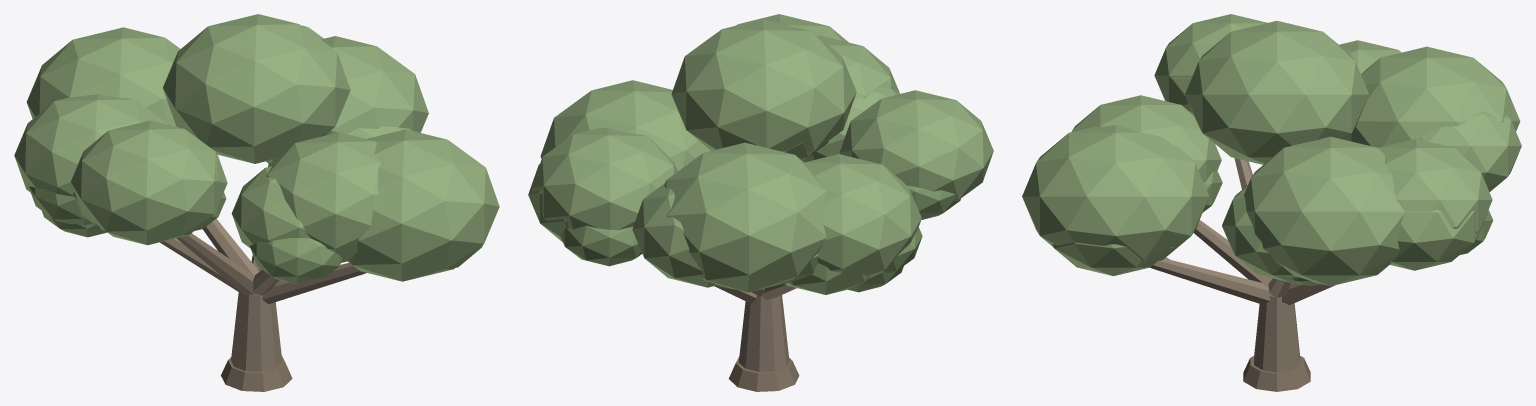
File: birnam_oak.glb
3 renders of one model, left to right at view 1: azimuth 30°, elevation 25°; view 2: azimuth 150°, elevation 25°; view 3: azimuth 270°, elevation 25°, orthographic.
Parts seen in each view (by area): view 1: leaf, bark, leaf_dk, bark_dk; view 2: leaf, leaf_dk, bark, bark_dk; view 3: leaf, bark, bark_dk, leaf_dk.
Boxes of the visible parts, box(x1,y1,x2,y2) form: leaf: box(14, 14, 499, 281); bark: box(160, 164, 366, 371); leaf_dk: box(29, 161, 342, 284); bark_dk: box(221, 355, 292, 391); leaf: box(528, 14, 993, 294); leaf_dk: box(561, 141, 960, 292); bark: box(714, 284, 796, 371); bark_dk: box(728, 356, 799, 391); leaf: box(1022, 14, 1521, 286); bark: box(1150, 158, 1334, 372); bark_dk: box(1243, 356, 1310, 391); leaf_dk: box(1189, 111, 1493, 286).
Bounding box in the file's own units: 15.42 × 13.44 × 17.64.
